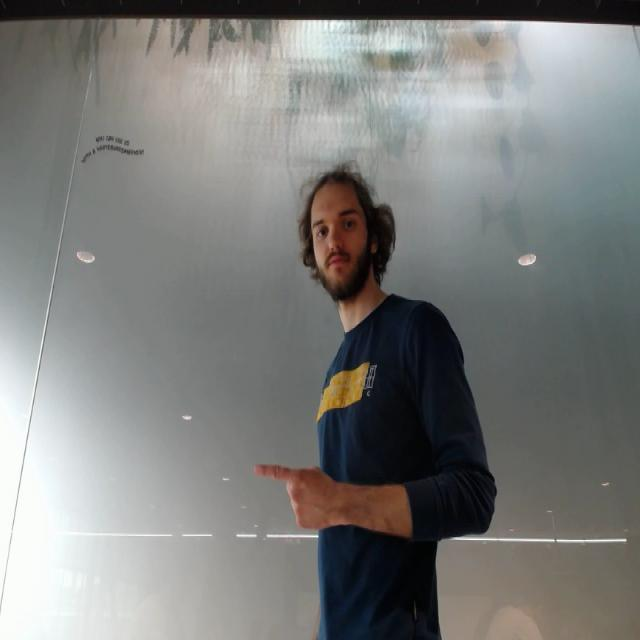left: (256, 454, 348, 536)
